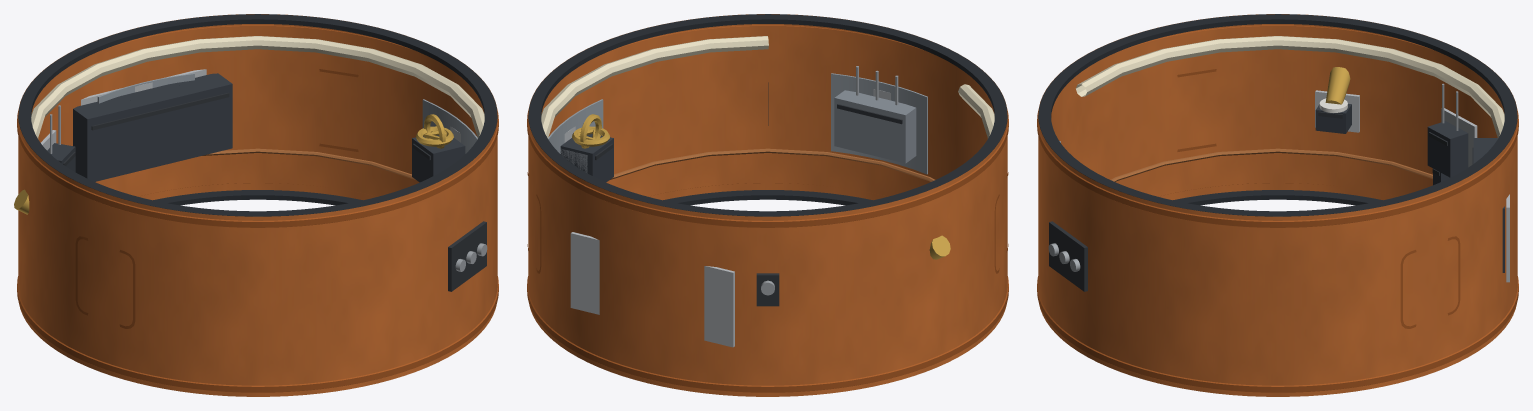
Rendered from sls_forward_skirt.glb.
3 renders of one model, left to right at view 1: azimuth 30°, elevation 25°; view 2: azimuth 150°, elevation 25°; view 3: azimuth 270°, elevation 25°, orthographic.
Visible parts, largest first — view 1: shell, frames, slot_computer__triple, slot_cooling, slot_computer, detail, slot_cooling__coldplate, slot_imu, slot_fts, slot_imu__fog; view 2: shell, frames, slot_cooling__coldplate, slot_computer__triple, slot_cooling, slot_transponder__dual, slot_transponder, slot_imu, detail, slot_imu__fog, slot_computer; view 3: shell, frames, slot_cooling, detail, slot_fts, slot_cooling__coldplate, slot_navaid, slot_computer__triple, slot_navaid__stellar.
Part boxes in pixels (x1,y1,x2,y2): shell: [18, 14, 497, 396]; frames: [17, 14, 498, 392]; slot_computer__triple: [73, 69, 232, 181]; slot_cooling: [31, 36, 484, 138]; slot_computer: [88, 71, 206, 177]; detail: [75, 69, 487, 328]; slot_cooling__coldplate: [95, 73, 477, 181]; slot_imu: [412, 126, 465, 182]; slot_fts: [41, 105, 75, 171]; slot_imu__fog: [416, 114, 453, 148]; shell: [528, 14, 1007, 396]; frames: [527, 14, 1008, 392]; slot_cooling__coldplate: [548, 73, 934, 181]; slot_computer__triple: [570, 232, 734, 347]; slot_cooling: [541, 36, 994, 138]; slot_transponder__dual: [834, 66, 916, 163]; slot_transponder: [854, 70, 895, 158]; slot_imu: [560, 126, 613, 182]; detail: [527, 82, 1008, 306]; slot_imu__fog: [560, 114, 609, 173]; slot_computer: [596, 240, 707, 340]; shell: [1038, 14, 1517, 396]; frames: [1037, 14, 1518, 392]; slot_cooling: [1076, 36, 1504, 138]; detail: [1048, 69, 1460, 328]; slot_fts: [1427, 83, 1477, 177]; slot_cooling__coldplate: [1111, 148, 1432, 181]; slot_navaid: [1315, 90, 1359, 133]; slot_computer__triple: [1472, 138, 1509, 282]; slot_navaid__stellar: [1325, 67, 1350, 104].
Bounding box in the file's own units: 3.41 × 1.4 × 3.39.
15 materials, 1 textured.
